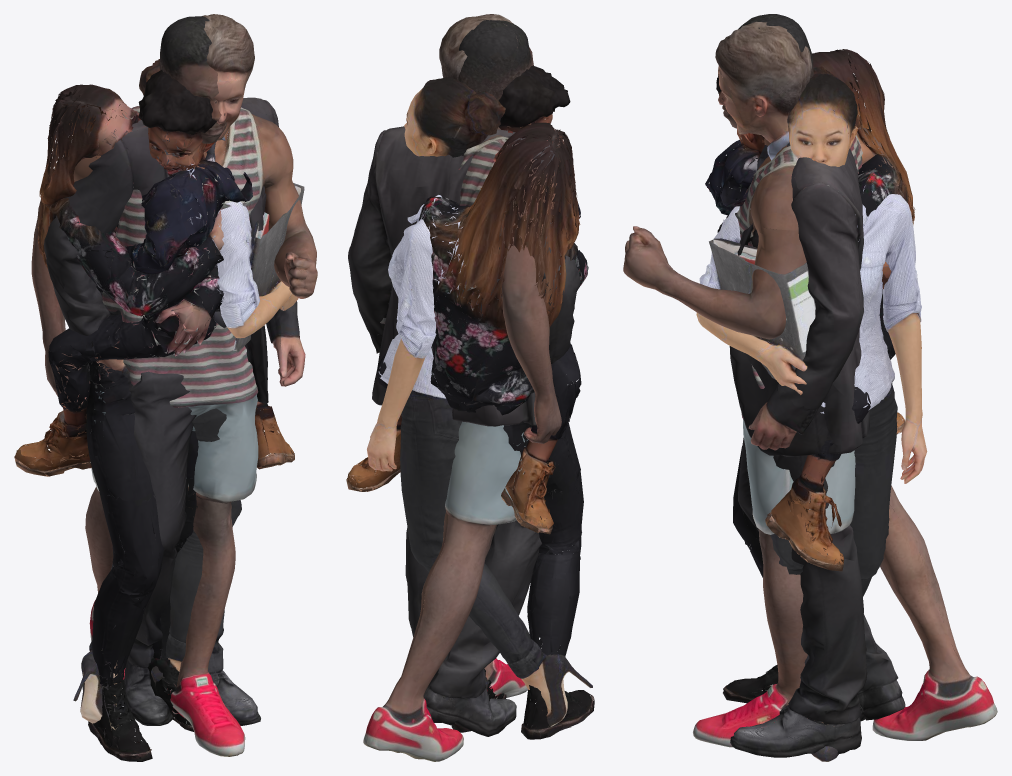
The model's file is people_real.glb.
The picture shows the model from 3 angles, left to right: view 1: azimuth 30°, elevation 25°; view 2: azimuth 150°, elevation 25°; view 3: azimuth 270°, elevation 25°; orthographic projection. The views are drawn at different scales.
Visible parts, largest first — view 1: rp_fabienne_percy_posed_001_200k, Object_2.001, rp_dennis_posed_004_100k, Object_3; view 2: rp_fabienne_percy_posed_001_200k, Object_2.001, Object_3, rp_dennis_posed_004_100k; view 3: rp_dennis_posed_004_100k, Object_2.001, Object_3, rp_fabienne_percy_posed_001_200k.
Part boxes in pixels (left/top/right/bottom): rp_fabienne_percy_posed_001_200k: left=14, top=69, right=294, bottom=761; Object_2.001: left=31, top=16, right=317, bottom=756; rp_dennis_posed_004_100k: left=44, top=14, right=305, bottom=725; Object_3: left=73, top=59, right=304, bottom=729; rp_fabienne_percy_posed_001_200k: left=346, top=65, right=594, bottom=739; Object_2.001: left=363, top=20, right=561, bottom=761; Object_3: left=367, top=77, right=592, bottom=730; rp_dennis_posed_004_100k: left=348, top=14, right=580, bottom=736; rp_dennis_posed_004_100k: left=715, top=21, right=905, bottom=757; Object_2.001: left=623, top=14, right=997, bottom=747; Object_3: left=696, top=66, right=927, bottom=761; rp_fabienne_percy_posed_001_200k: left=705, top=49, right=915, bottom=703.
Size of the model in its own units: 0.6487 by 1.8 by 0.8518.
Materials: 4 (4 with a texture image).
